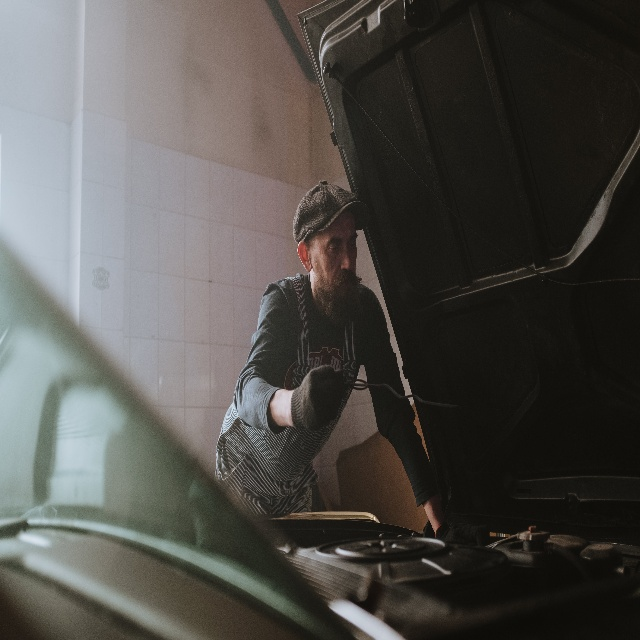Guantes: (291, 363, 347, 432), (435, 517, 490, 547)
